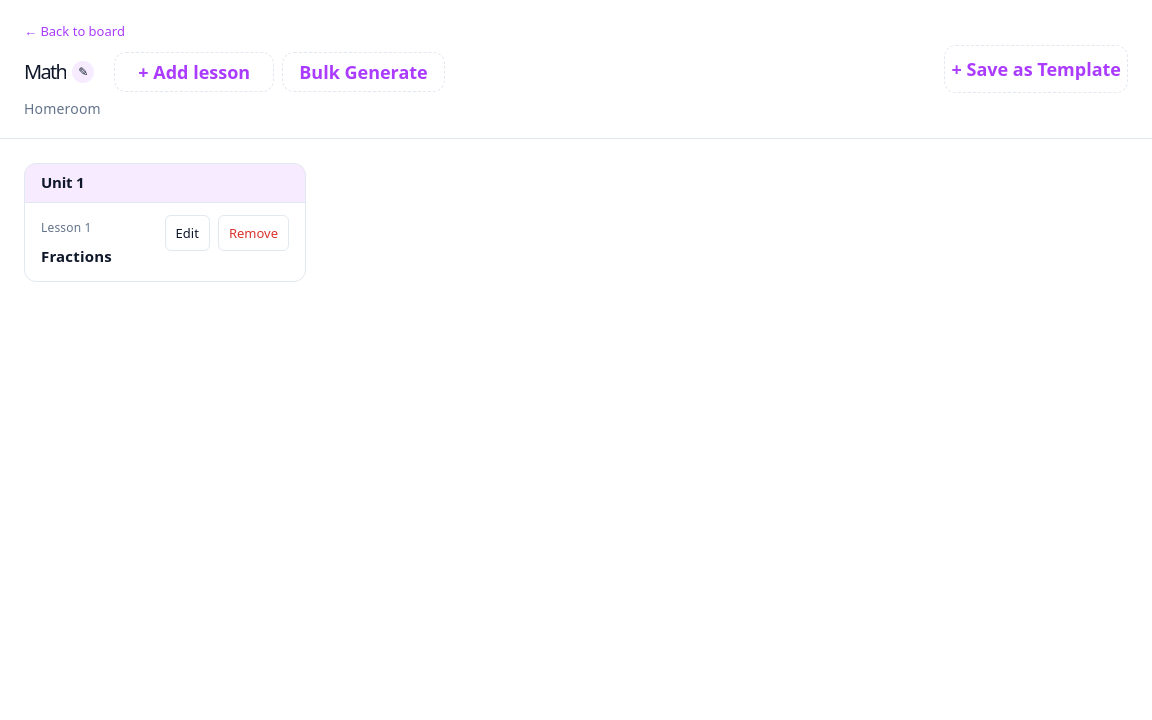
Test: Curriculum › does not delete a lesson when RemoveLessonDialog is cancelled
This screenshot has width=1152, height=720.
Click the button with aria-label "Remove Fractions" at (253, 233), box [218,215,289,251]
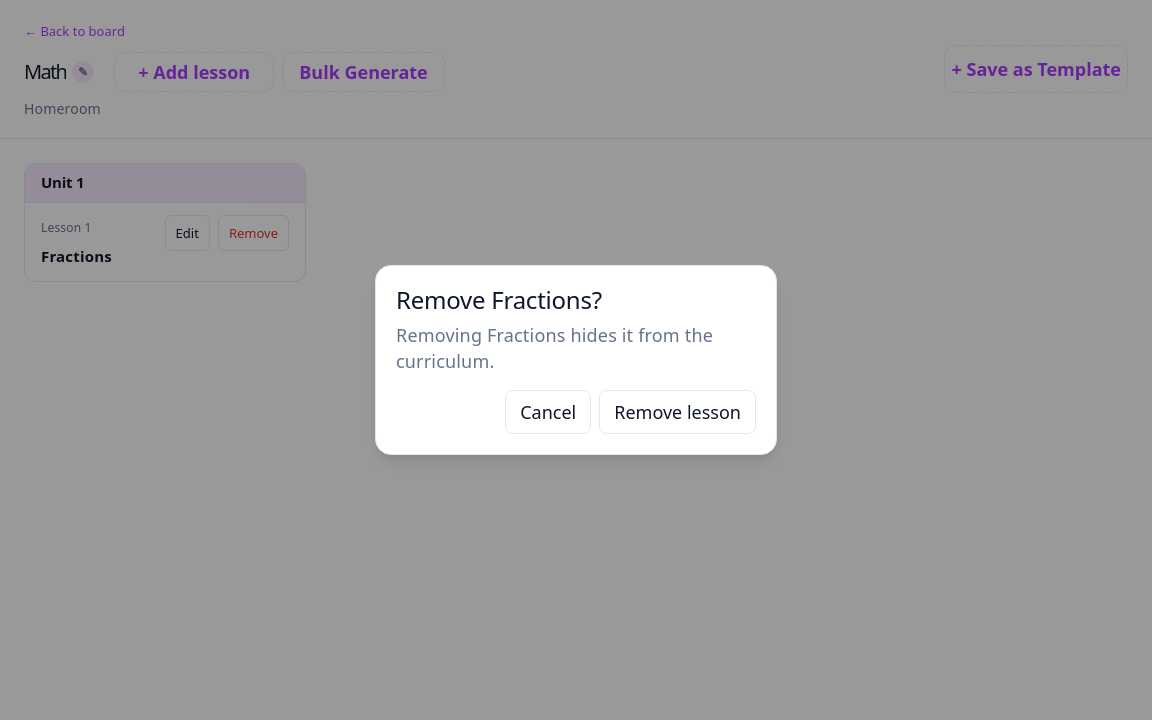
Click the button "Cancel" at (548, 412), box [505,390,591,434]
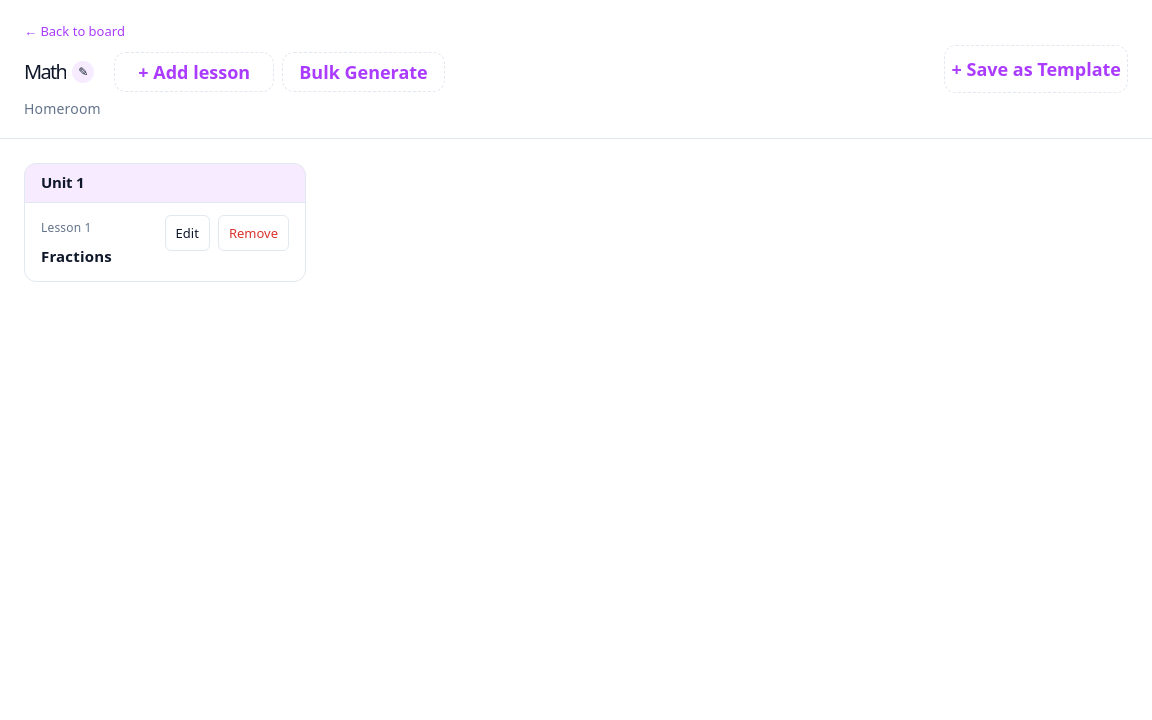
Check: the button "Remove lesson" is gone
